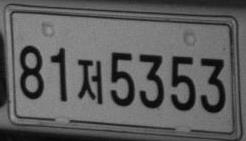1: (49, 47, 72, 101)
3: (199, 57, 226, 114), (138, 53, 164, 109)
5: (170, 55, 196, 111), (110, 52, 135, 107)
8: (19, 44, 44, 100)
저: (77, 58, 103, 104)
